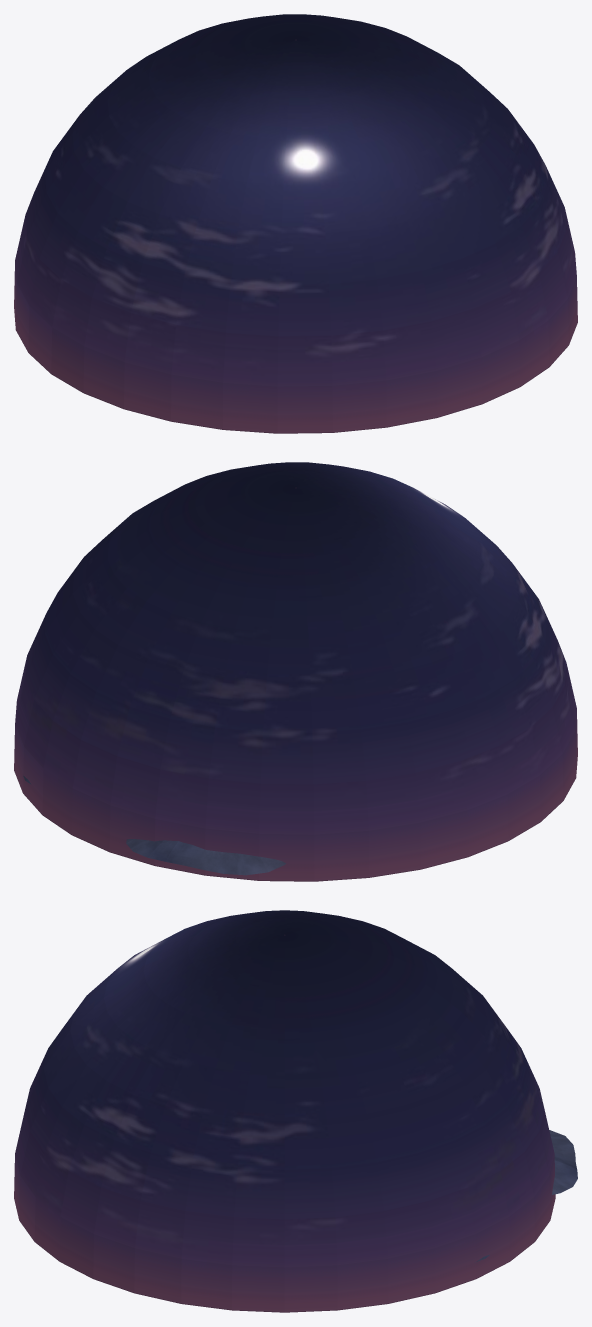
Rendered from lugar-chongqing-ciudad.glb.
3 renders of one model, top to bottom at view 1: azimuth 30°, elevation 25°; view 2: azimuth 150°, elevation 25°; view 3: azimuth 270°, elevation 25°, orthographic. The views are drawn at different scales.
Parts seen in each view (by area): view 1: planoC; view 2: planoC, vertT; view 3: planoC, vertT.
Part boxes in pixels (x1,y1,x2,y2): planoC: (14,14,577,433); planoC: (14,462,577,881); vertT: (23,775,285,875); planoC: (14,910,555,1312); vertT: (475,1130,577,1262).
Bounding box in the file's own units: 6584 × 3530 × 6855.
15 materials, 12 textured.
